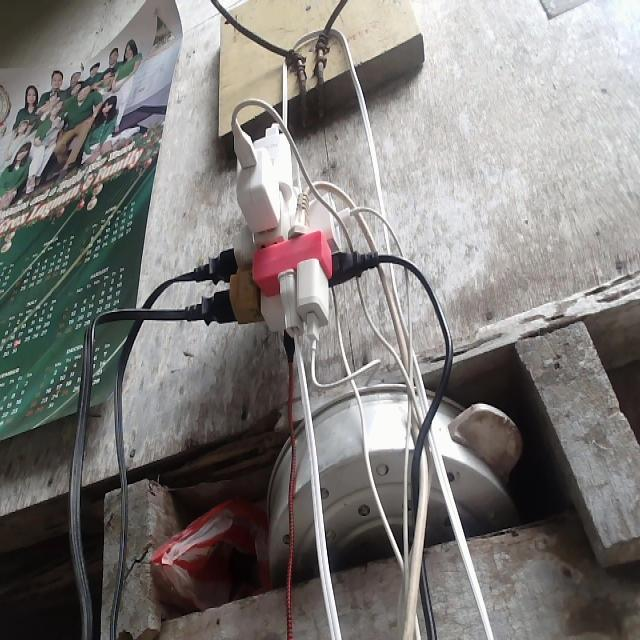-: (206, 127, 356, 349)
